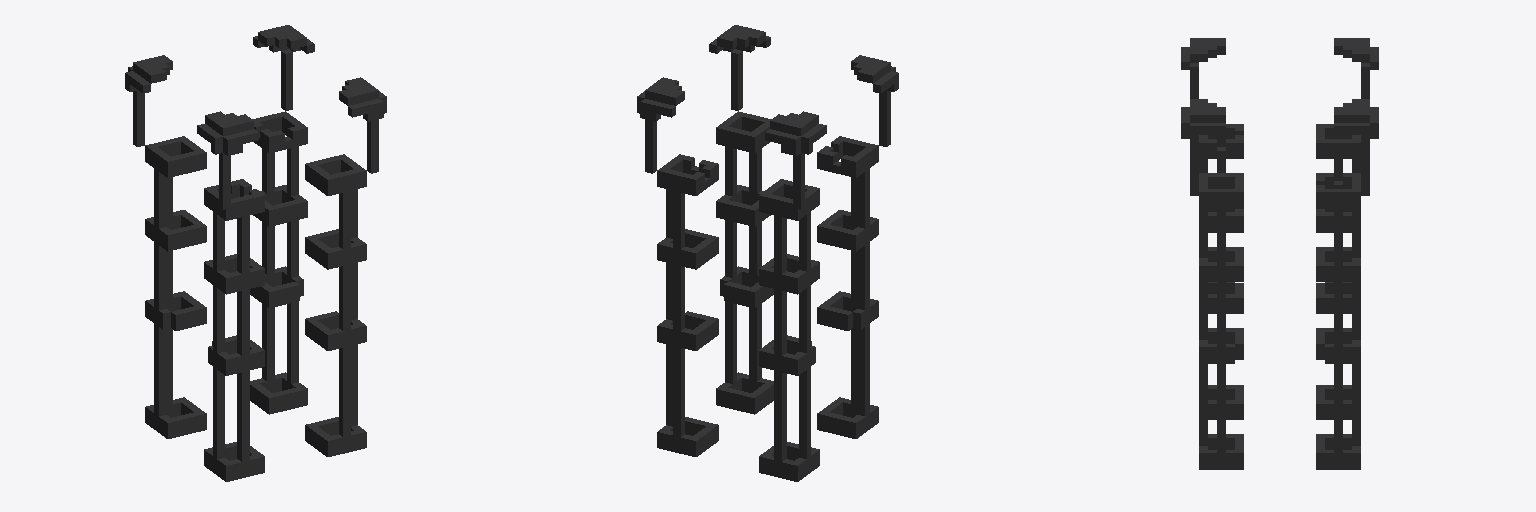
3 renders of one model, left to right at view 1: azimuth 30°, elevation 25°; view 2: azimuth 150°, elevation 25°; view 3: azimuth 270°, elevation 25°, orthographic.
Parts seen in each view (by area): view 1: object 1; view 2: object 1; view 3: object 1.
Part boxes in pixels (bbox=[...]): object 1: bbox=[125, 25, 386, 481]; object 1: bbox=[637, 25, 898, 481]; object 1: bbox=[1181, 38, 1378, 469].
Size of the model in its own units: 2.2 by 4.4 by 2.2.
Materials: 1 (1 with a texture image).